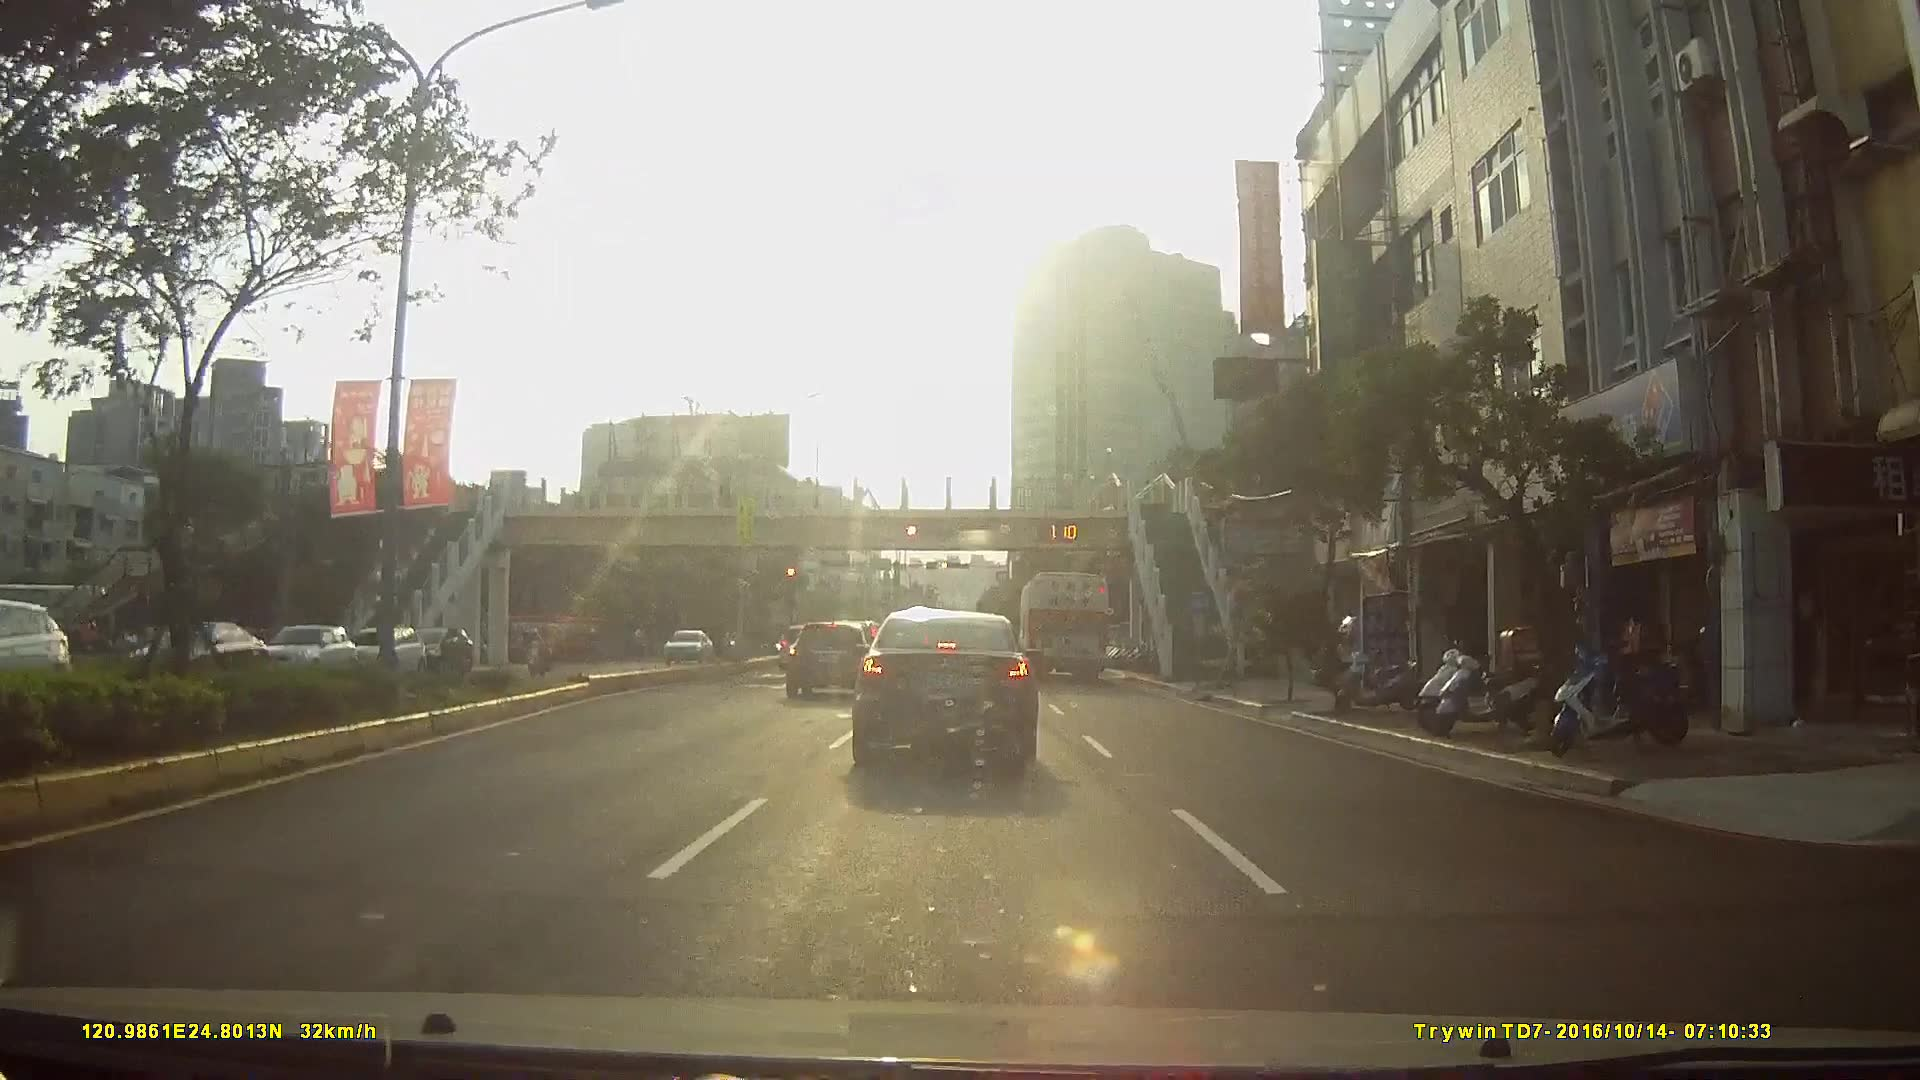rider: (524, 623, 553, 679)
vehicle: (850, 605, 1042, 765), (1017, 568, 1114, 682), (782, 616, 876, 699), (259, 623, 356, 676), (341, 625, 426, 675), (404, 623, 473, 670), (657, 625, 712, 664)
